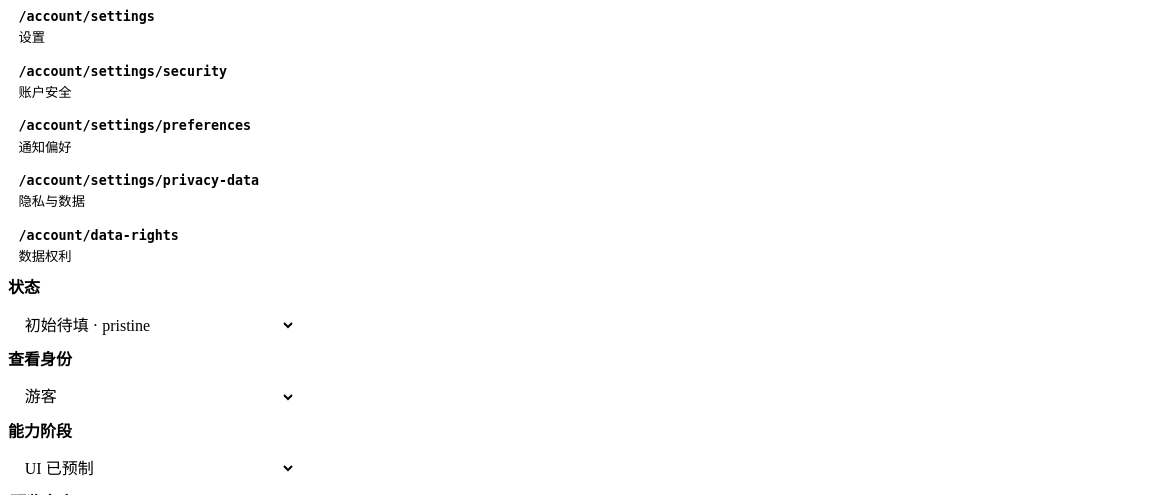
Test: Web UI Lab interactions › replaces the normal body with formal Status for failed
The image size is (1152, 495).
(page scrolled)
Select "处理失败 · failed" in the dropdown labelled "状态" at (152, 325), box [8, 304, 296, 346]
(page scrolled)
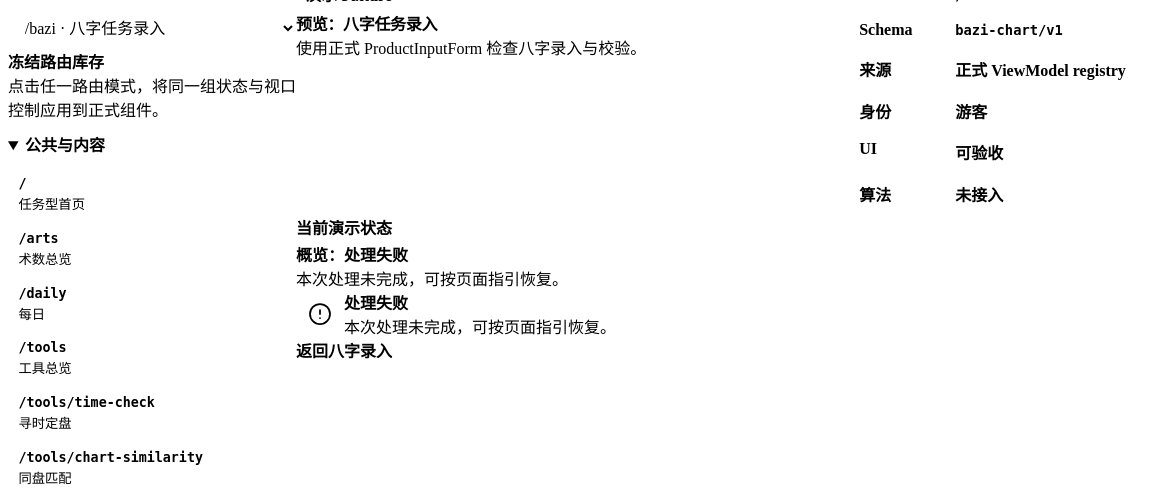
Expected: the heading "处理失败" is shown, [344, 295, 408, 312]
